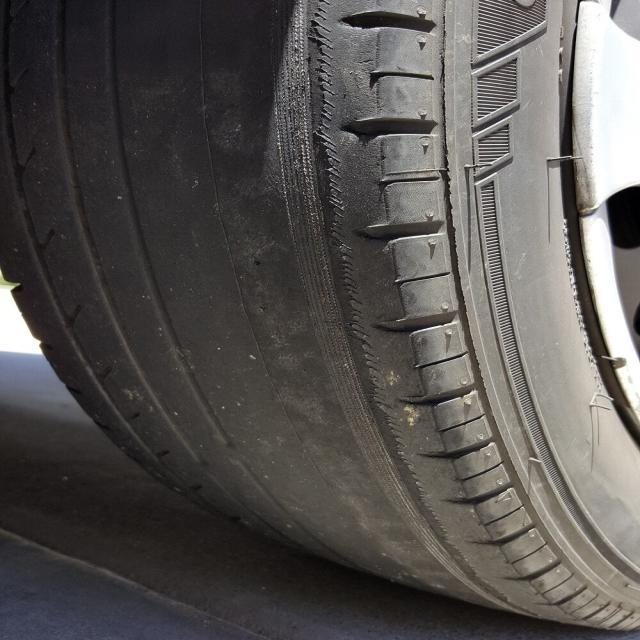Flat spots: (115, 0, 355, 437)
